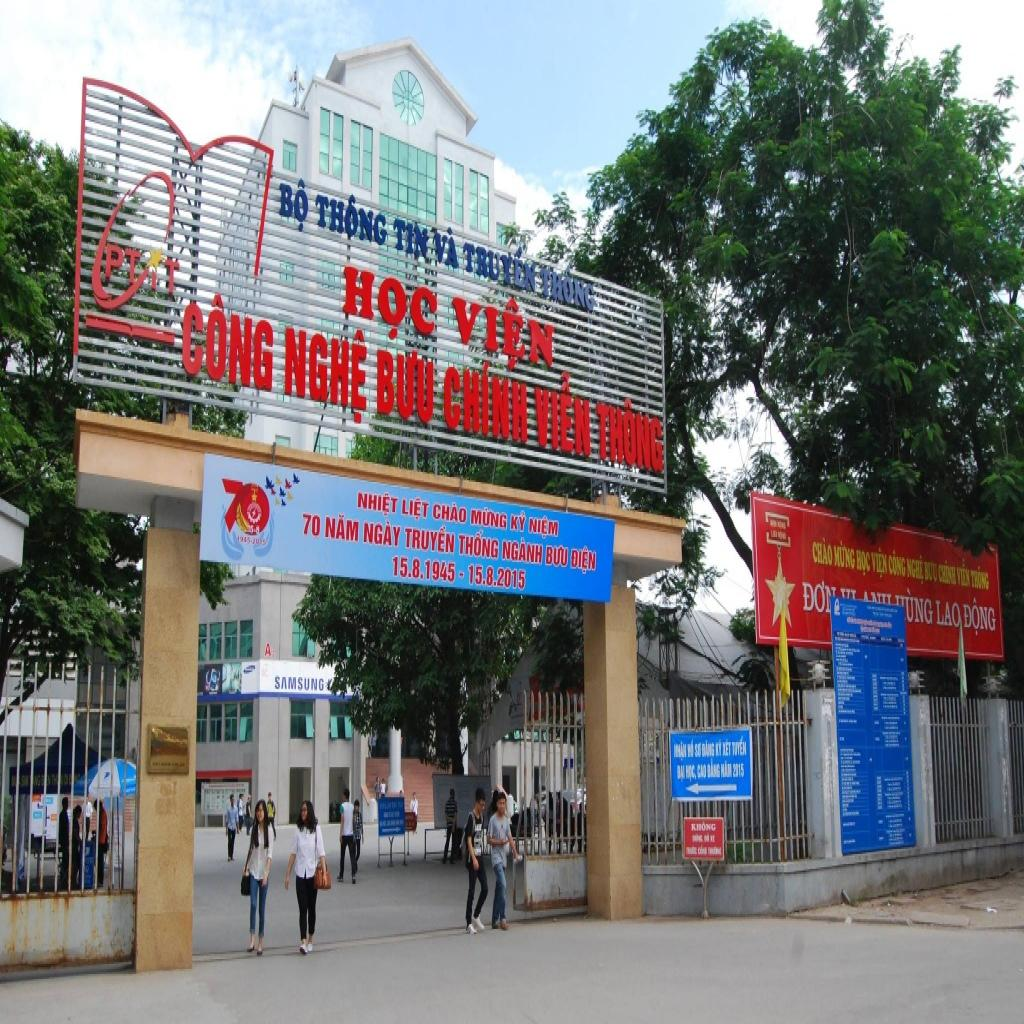text: (447, 280, 555, 379), (180, 287, 278, 395), (282, 313, 369, 427), (342, 260, 438, 350), (444, 354, 530, 447), (595, 389, 665, 475), (374, 337, 435, 428), (532, 372, 593, 457), (314, 185, 389, 250), (463, 239, 537, 295), (540, 267, 596, 315), (392, 552, 466, 587), (467, 560, 528, 596), (279, 174, 310, 235), (104, 242, 143, 290), (392, 214, 429, 264), (404, 524, 457, 557), (962, 597, 998, 642), (458, 527, 500, 562), (501, 534, 544, 568), (356, 487, 400, 519), (362, 517, 404, 550), (433, 225, 462, 272), (324, 512, 361, 545), (272, 672, 325, 694), (906, 588, 935, 628), (470, 505, 509, 534), (799, 577, 827, 615), (432, 500, 469, 527), (528, 514, 561, 542), (935, 597, 963, 630), (400, 495, 431, 524), (570, 545, 598, 577), (164, 255, 183, 299), (810, 535, 834, 569), (833, 540, 857, 572), (545, 540, 569, 570), (870, 545, 889, 582), (301, 510, 323, 540), (907, 554, 926, 588), (938, 557, 958, 589), (888, 549, 908, 580), (971, 565, 993, 592), (856, 547, 872, 579), (510, 510, 528, 536), (957, 560, 972, 590), (236, 534, 269, 547), (732, 736, 749, 760), (925, 559, 939, 585), (673, 741, 688, 762), (701, 739, 716, 760), (691, 822, 717, 834), (707, 760, 721, 780), (733, 762, 747, 781), (696, 762, 708, 782), (685, 764, 698, 782), (720, 762, 733, 779), (676, 764, 687, 784), (723, 737, 732, 761), (248, 522, 262, 537), (708, 845, 723, 859), (715, 740, 723, 759), (688, 741, 695, 762), (692, 832, 704, 844), (685, 846, 698, 857), (777, 529, 788, 542), (695, 742, 702, 759), (698, 846, 708, 857), (777, 520, 787, 530), (770, 529, 779, 540), (769, 518, 778, 528), (704, 834, 711, 845), (710, 834, 716, 844)
